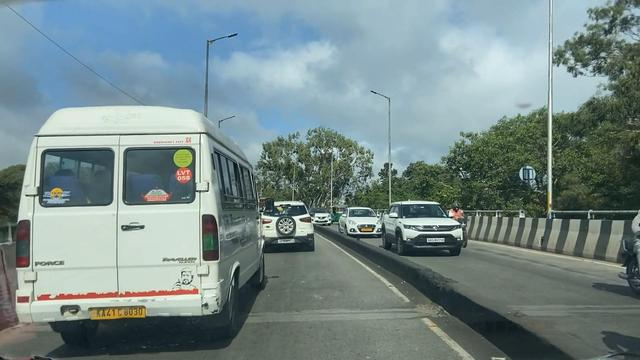HMV: (14, 106, 259, 334)
LMV: (259, 202, 315, 249)
SpeedBump: (249, 301, 441, 327)
